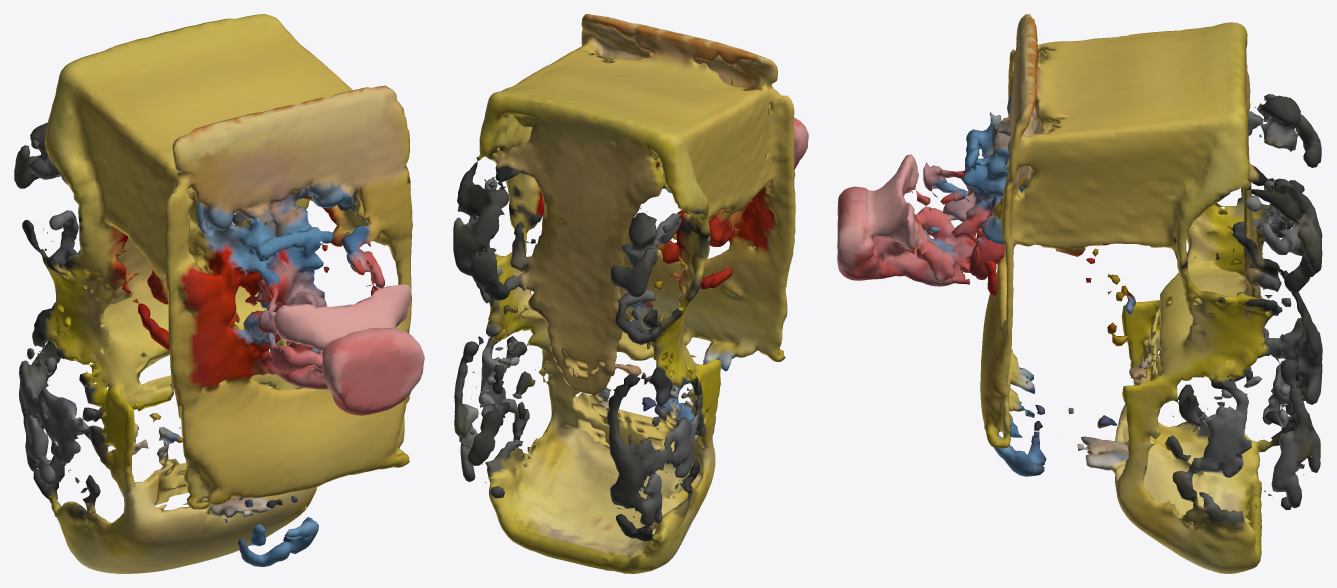
File: school_bus2.glb
3 renders of one model, left to right at view 1: azimuth 30°, elevation 25°; view 2: azimuth 150°, elevation 25°; view 3: azimuth 270°, elevation 25°, orthographic. The views are drawn at different scales.
Bounding box in the file's own units: 0.4888 × 0.9998 × 0.8965.
